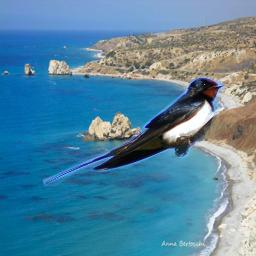Swallow: (41, 77, 225, 186)
